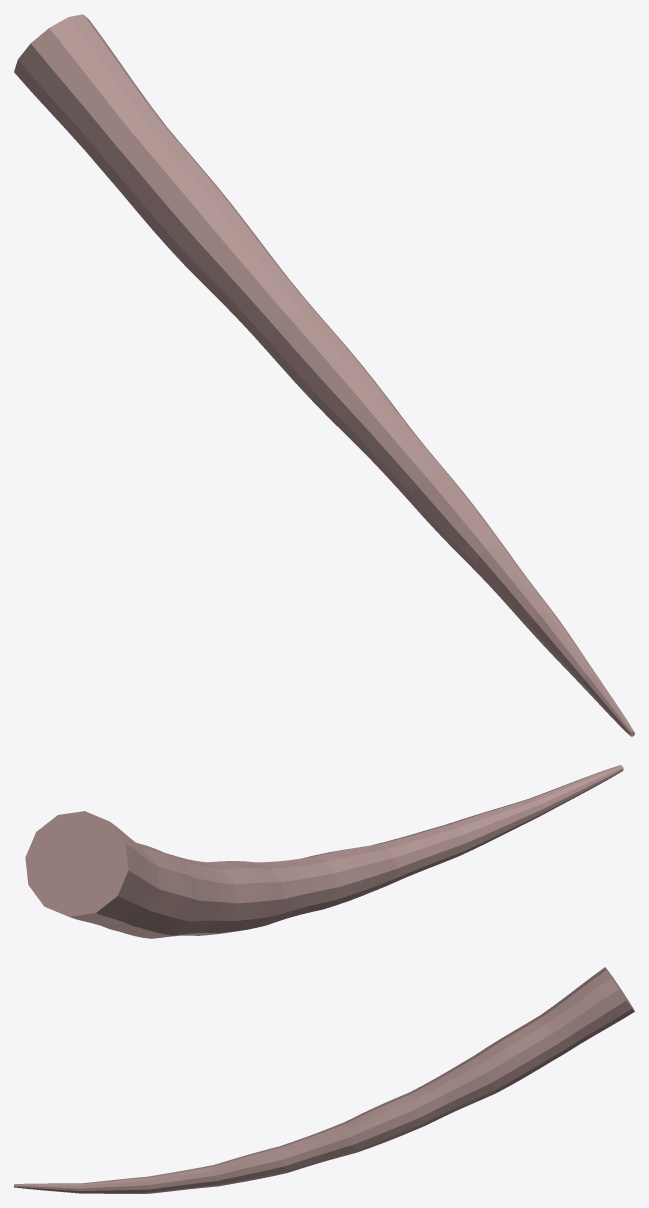
File: rat_tail_original_01.glb
3 renders of one model, top to bottom at view 1: azimuth 30°, elevation 25°; view 2: azimuth 150°, elevation 25°; view 3: azimuth 270°, elevation 25°, orthographic. The views are drawn at different scales.
Visible parts, largest first — view 1: Tail; view 2: Tail; view 3: Tail.
Boxes of the visible parts, left/top/right/bottom form: Tail: left=14, top=14, right=634, bottom=736; Tail: left=25, top=765, right=623, bottom=938; Tail: left=14, top=967, right=634, bottom=1193.
Bounding box in the file's own units: 0.1821 × 0.4175 × 1.15.
